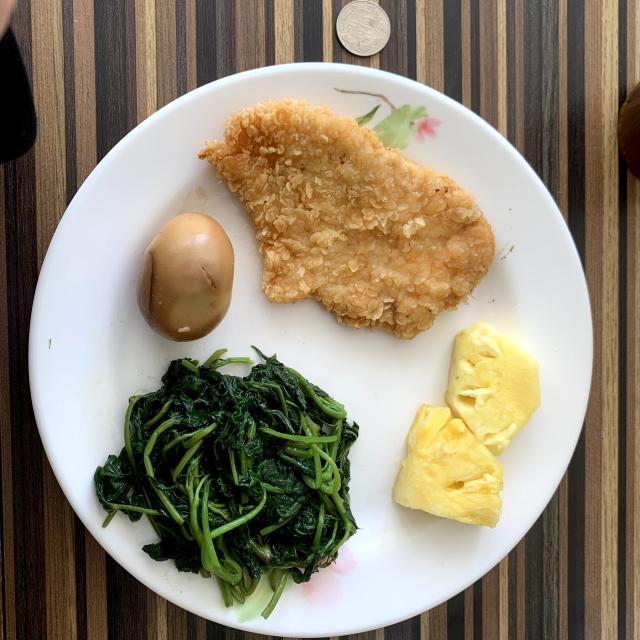coin: (336, 0, 390, 56)
fried chicken cutlet: (199, 99, 495, 339)
pineapple: (392, 321, 541, 528)
soy egg: (138, 212, 234, 341)
sweet potato leaves: (94, 350, 358, 618)
